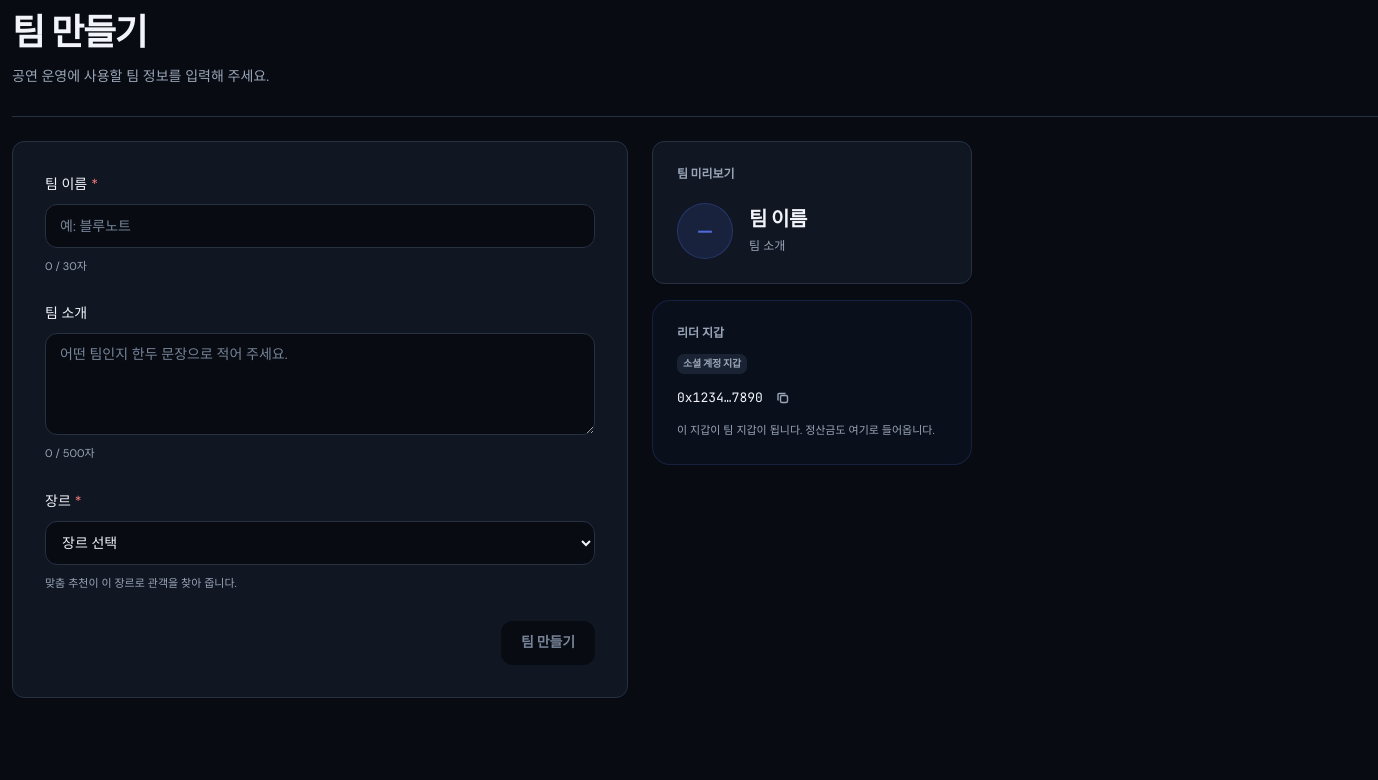
it: 팀 이름과 소개를 입력하는 동안 실제 값만으로 팀 미리보기를 갱신한다
Type "Blue Note" into the field labelled "팀 이름*" at (320, 226), box [45,204,595,248]
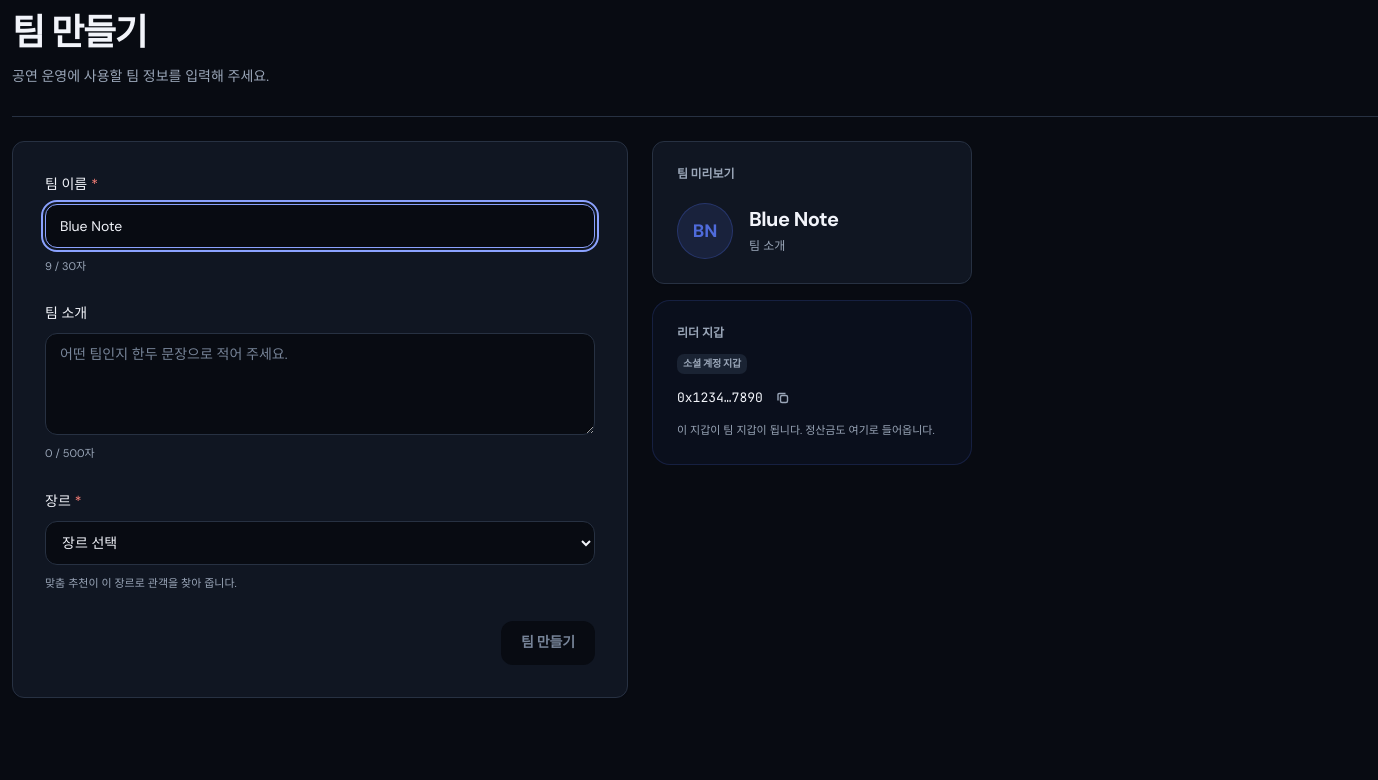
Type "새로운 무대를 만드는 팀입니다." into the text box labelled "팀 소개" at (320, 384), box [45,333,595,435]
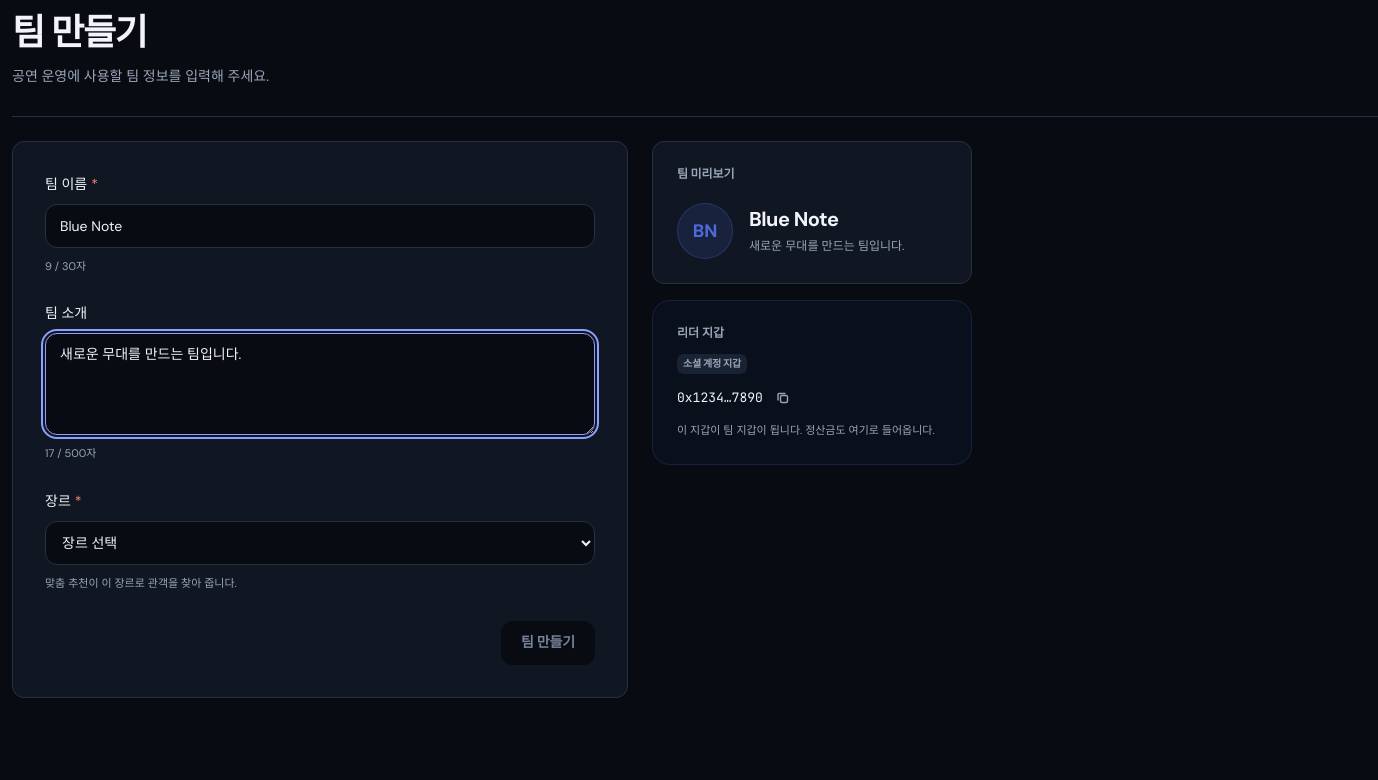
Now the text "BN" is shown, box [677,203,733,259]
Now the heading "Blue Note" is shown, box [749,206,838,232]
Now the text "새로운 무대를 만드는 팀입니다." is shown, box [749,237,904,256]
